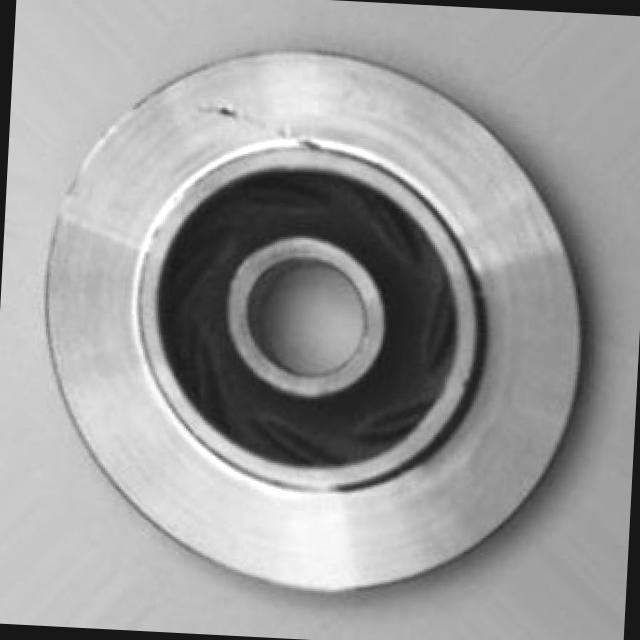Defect: (206, 89, 249, 134)
